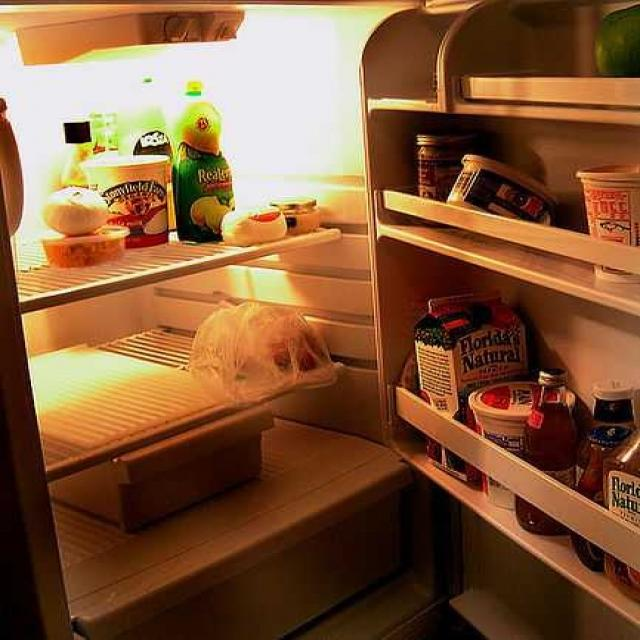refrigerator: (6, 2, 640, 600)
